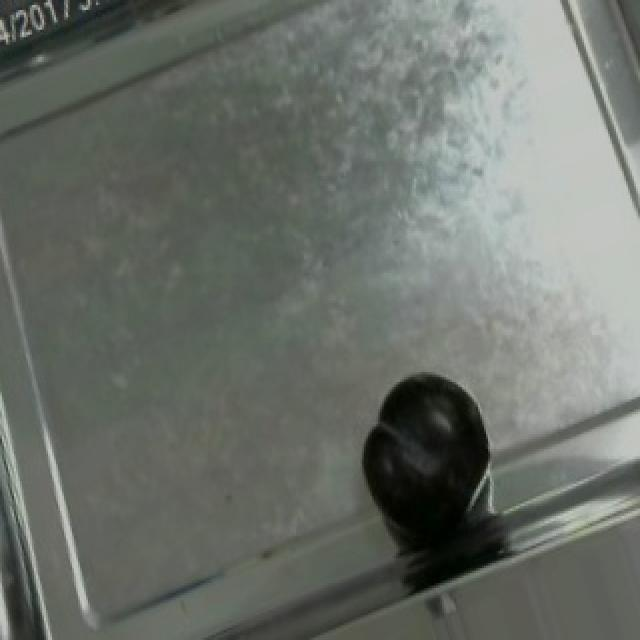Fruit: (342, 354, 514, 560)
